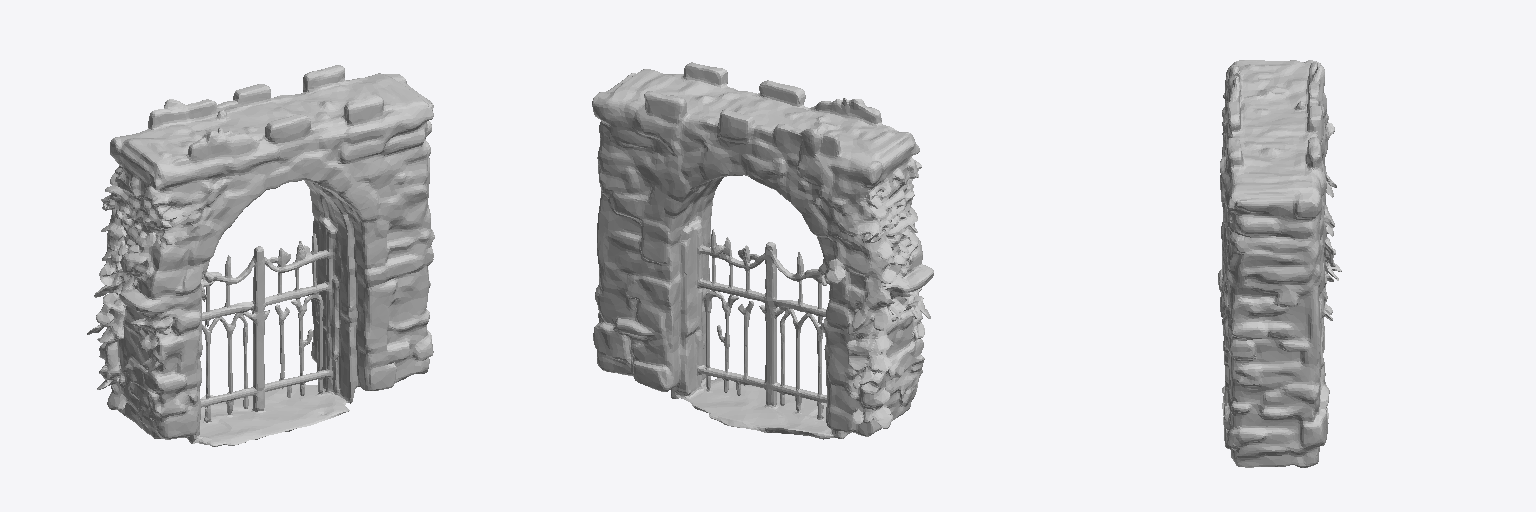
File: A_ruined_entry_to_an__0919133231_preview.obj
3 views of the same model, side by side, from view 1: azimuth 30°, elevation 25°; view 2: azimuth 150°, elevation 25°; view 3: azimuth 270°, elevation 25° (orthographic).
Visible parts, largest first — view 1: Mesh1; view 2: Mesh1; view 3: Mesh1.
Part boxes in pixels (x1,y1,x2,y2): Mesh1: (87, 65, 434, 446); Mesh1: (592, 62, 933, 439); Mesh1: (1218, 60, 1341, 467).
Bounding box in the file's own units: 2 × 1.88 × 0.6683.